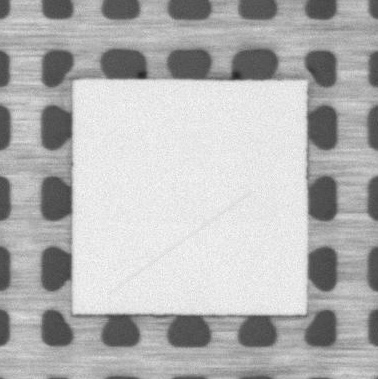DIE_CRACK: (108, 193, 250, 295)
